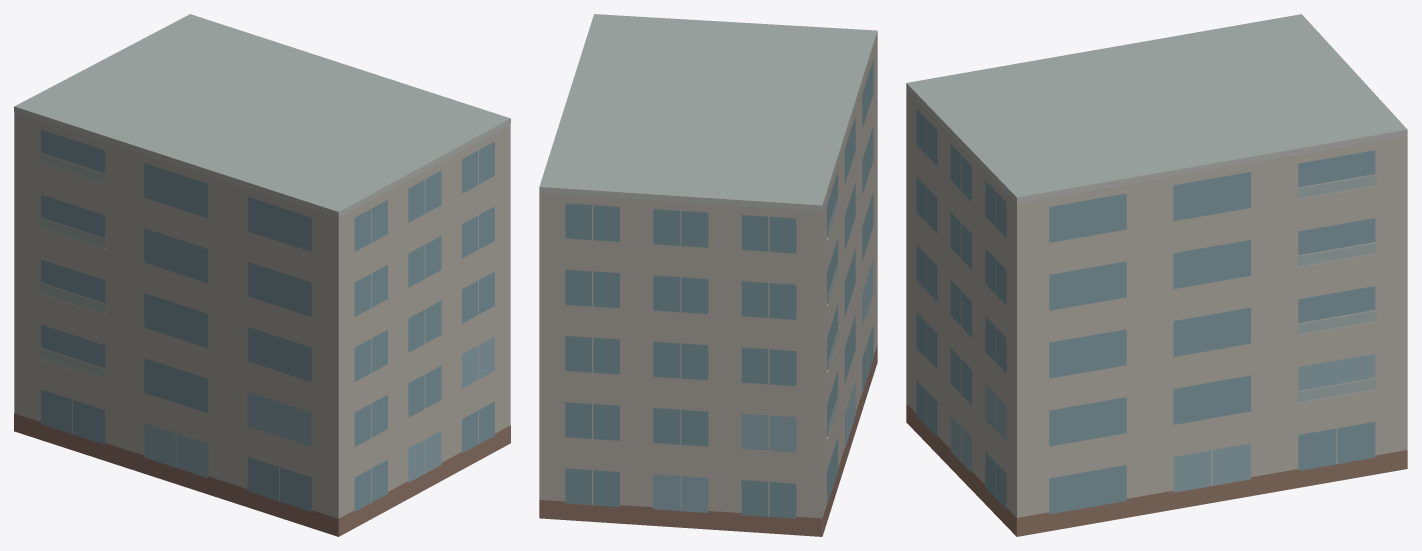
The model's file is survey-upis-32861130.glb.
3 renders of one model, left to right at view 1: azimuth 30°, elevation 25°; view 2: azimuth 150°, elevation 25°; view 3: azimuth 270°, elevation 25°, orthographic. The views are drawn at different scales.
Visible parts, largest first — view 1: survey-upis-32861130.tmp; view 2: survey-upis-32861130.tmp; view 3: survey-upis-32861130.tmp.
Part boxes in pixels (left/top/right/bottom): survey-upis-32861130.tmp: left=14, top=14, right=510, bottom=536; survey-upis-32861130.tmp: left=539, top=14, right=877, bottom=536; survey-upis-32861130.tmp: left=906, top=14, right=1407, bottom=536.
Bounding box in the file's own units: 16.08 × 13.85 × 18.56.
